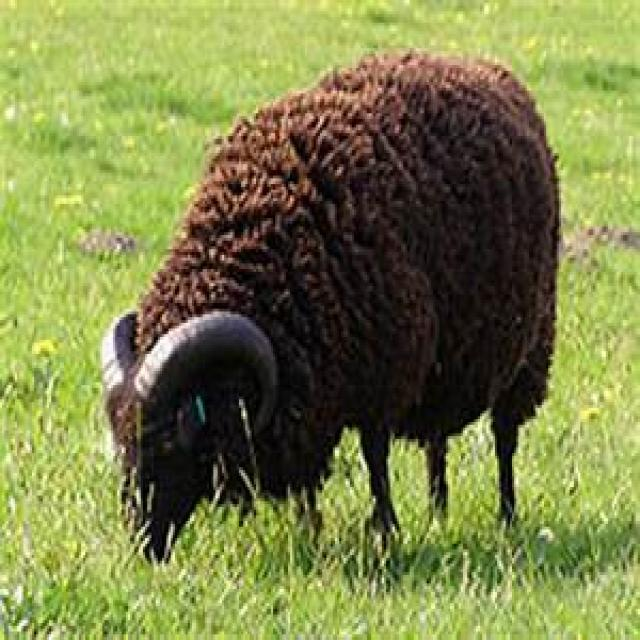goat: (98, 48, 563, 566)
